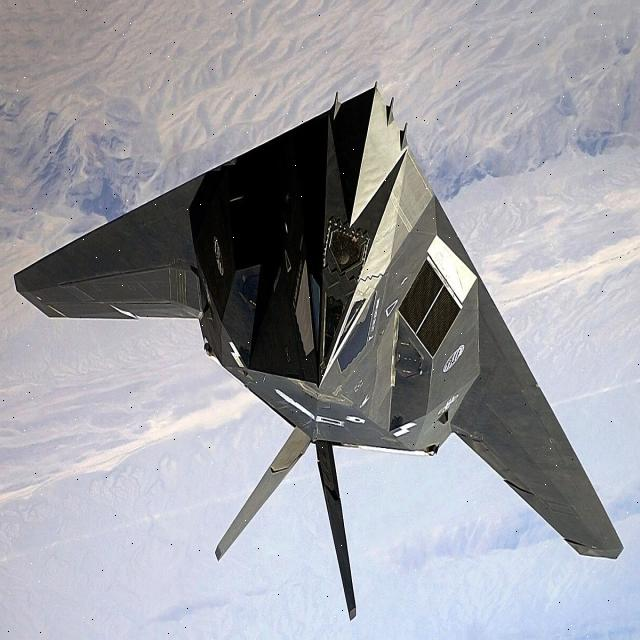F117: (0, 61, 625, 624)
